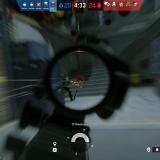Character: (61, 71, 76, 102)
Head: (63, 71, 68, 77)
